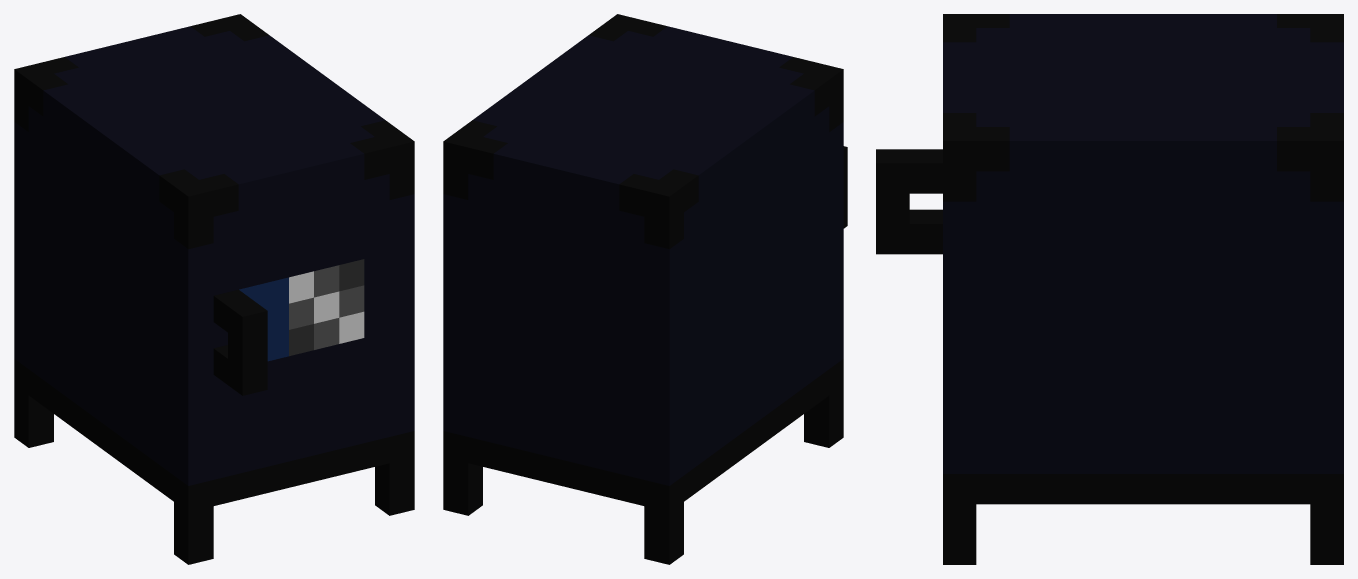
The model's file is safe.obj.
The picture shows the model from 3 angles, left to right: view 1: azimuth 30°, elevation 25°; view 2: azimuth 150°, elevation 25°; view 3: azimuth 270°, elevation 25°; orthographic projection. The views are drawn at different scales.
Bounding box in the file's own units: 0.9 × 1.4 × 1.4.
